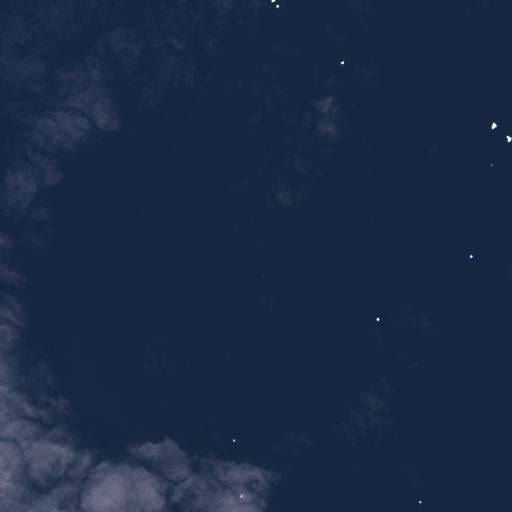Iceberg: (491, 122, 496, 129), (506, 135, 511, 142), (340, 60, 344, 64), (469, 254, 473, 258), (376, 317, 379, 321), (276, 4, 279, 7), (240, 494, 243, 497), (271, 0, 275, 2), (490, 163, 492, 166), (232, 439, 235, 441), (418, 501, 421, 503), (297, 48, 299, 49), (262, 275, 263, 277), (226, 356, 227, 357)
